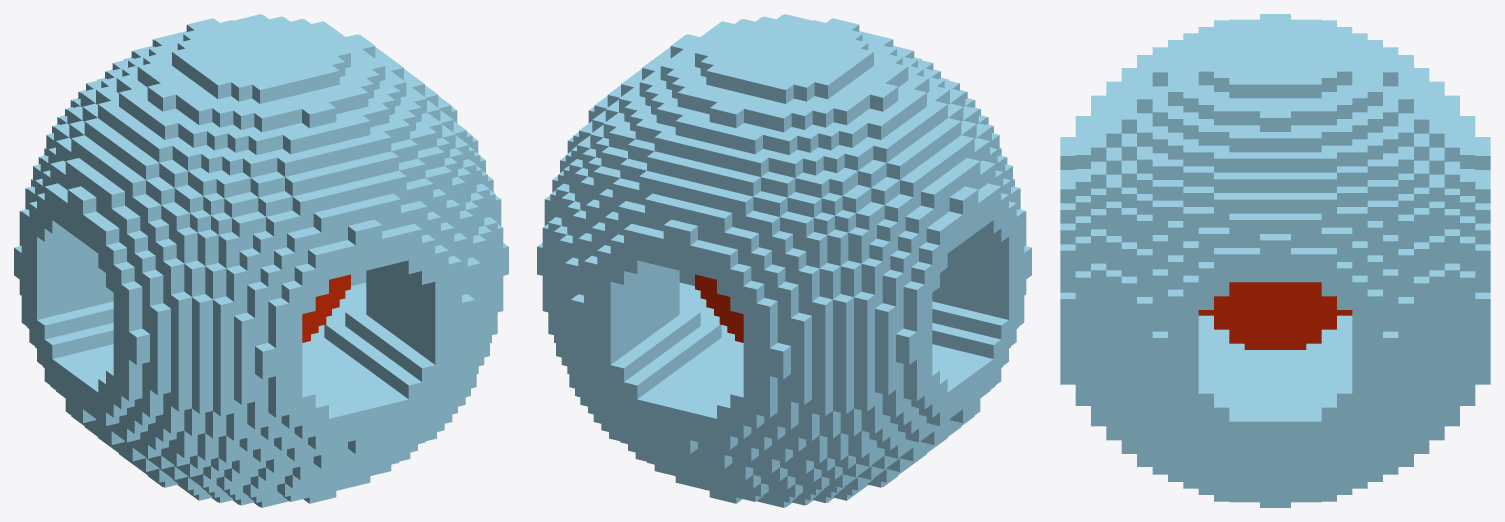
File: Character_13.fbx
The picture shows the model from 3 angles, left to right: view 1: azimuth 30°, elevation 25°; view 2: azimuth 150°, elevation 25°; view 3: azimuth 270°, elevation 25°; orthographic projection.
Visible parts, largest first — view 1: Character_13; view 2: Character_13; view 3: Character_13.
Boxes of the visible parts, bbox=[...] form: Character_13: bbox=[14, 14, 508, 507]; Character_13: bbox=[537, 14, 1031, 507]; Character_13: bbox=[1060, 14, 1490, 507].
Size of the model in its own units: 28 by 30 by 28.
Materials: 1 (1 with a texture image).
